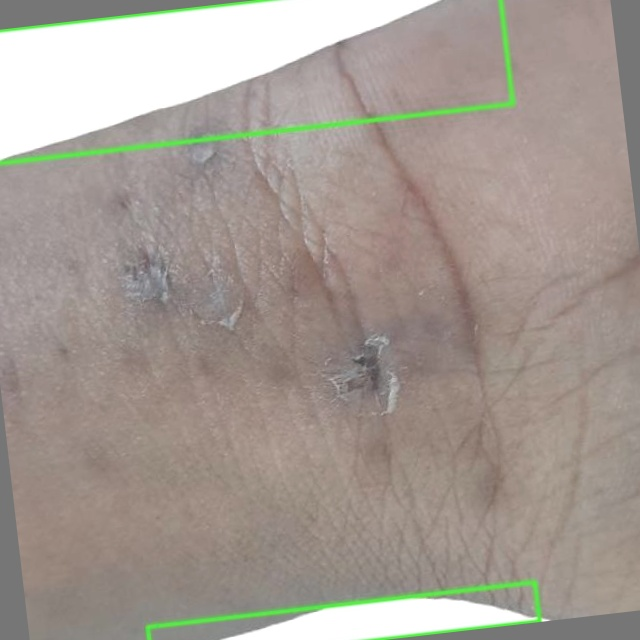Scabies: (0, 0, 514, 163), (147, 582, 539, 639)
